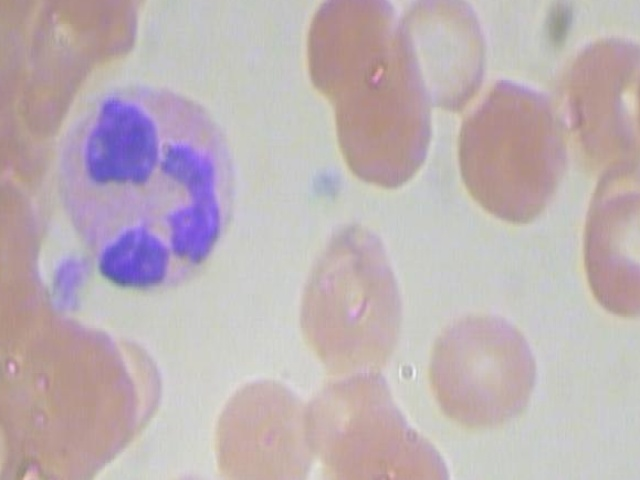Platelets: (47, 248, 96, 314)
RBC: (290, 210, 413, 386), (448, 75, 575, 231), (421, 303, 545, 435), (332, 65, 447, 189), (393, 0, 498, 120), (207, 373, 324, 480), (293, 0, 407, 92), (317, 412, 460, 480), (157, 466, 287, 480)
WBC: (53, 72, 246, 296)
